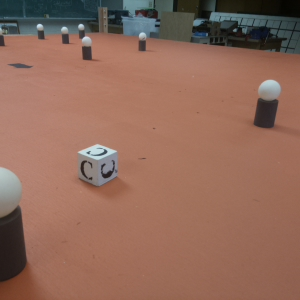blockC: (77, 144, 116, 184)
corner: (98, 7, 108, 32)
obstacle: (1, 164, 24, 276), (256, 80, 279, 126), (82, 37, 93, 59), (137, 31, 147, 51), (60, 25, 70, 43), (37, 24, 46, 40), (76, 24, 84, 37), (1, 28, 4, 48)
start: (9, 60, 31, 71)
